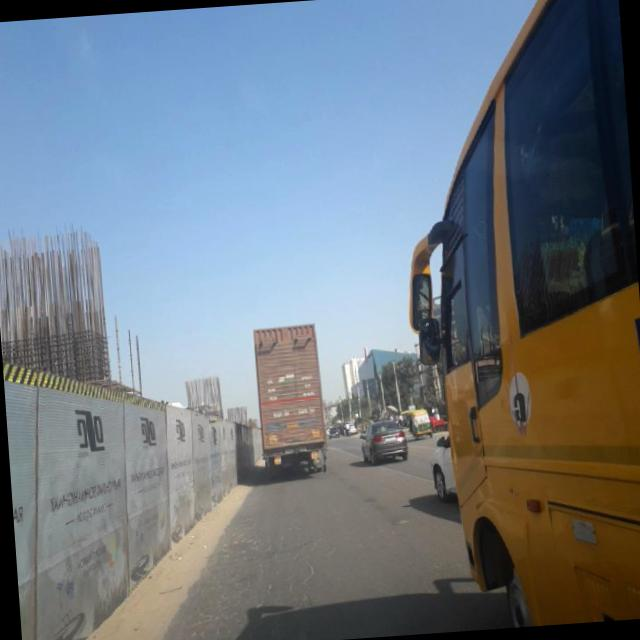crack: (164, 510, 330, 640)
